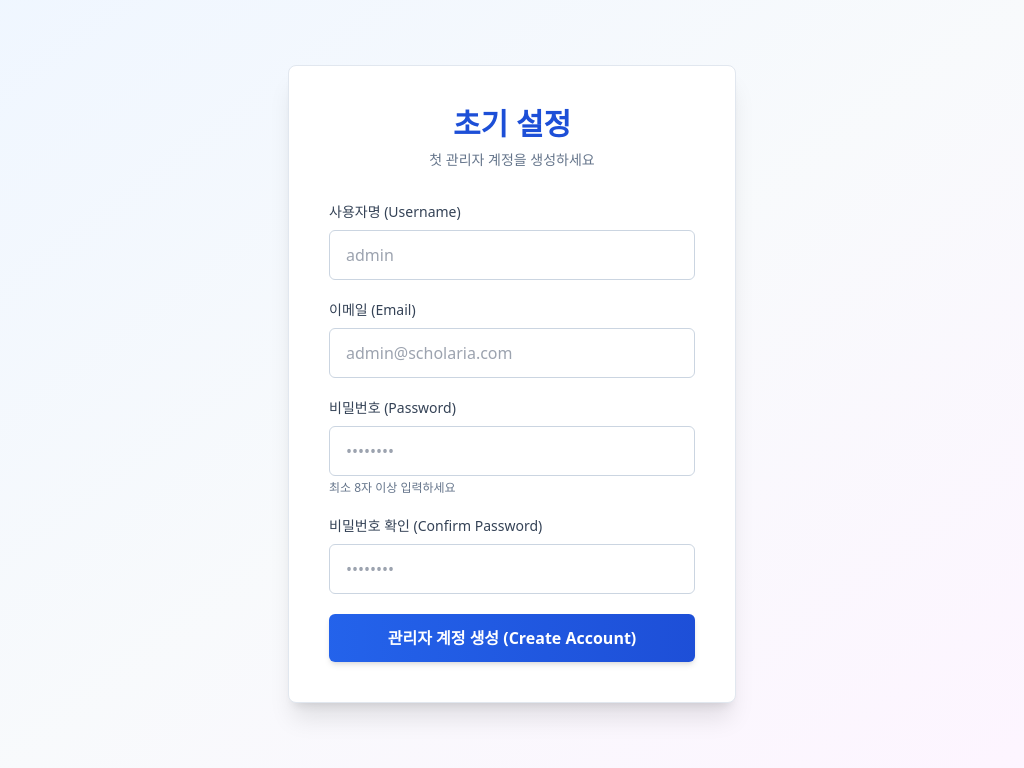
SetupPage › 비밀번호 길이 검증 - 8자 미만 시 에러
Type "testuser" into the field labelled "Username".
click(512, 255); type("testuser")  # box [329,230,695,280]
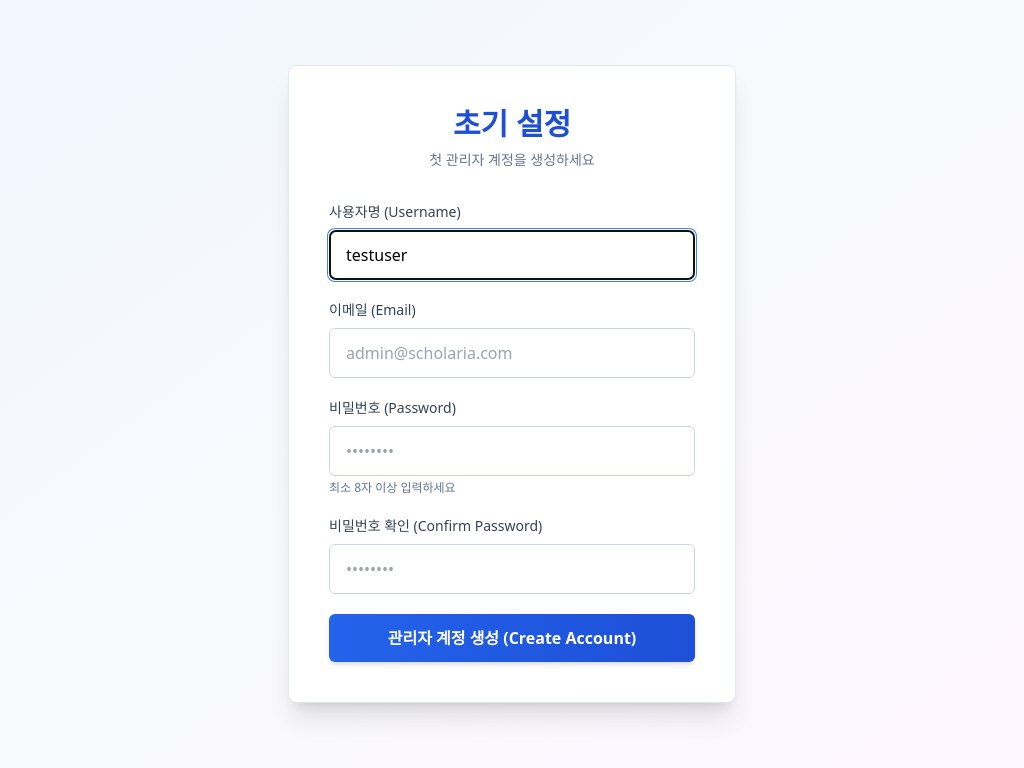
Type "test@test.com" into the field labelled "Email".
click(512, 353); type("test@test.com")  # box [329,328,695,378]
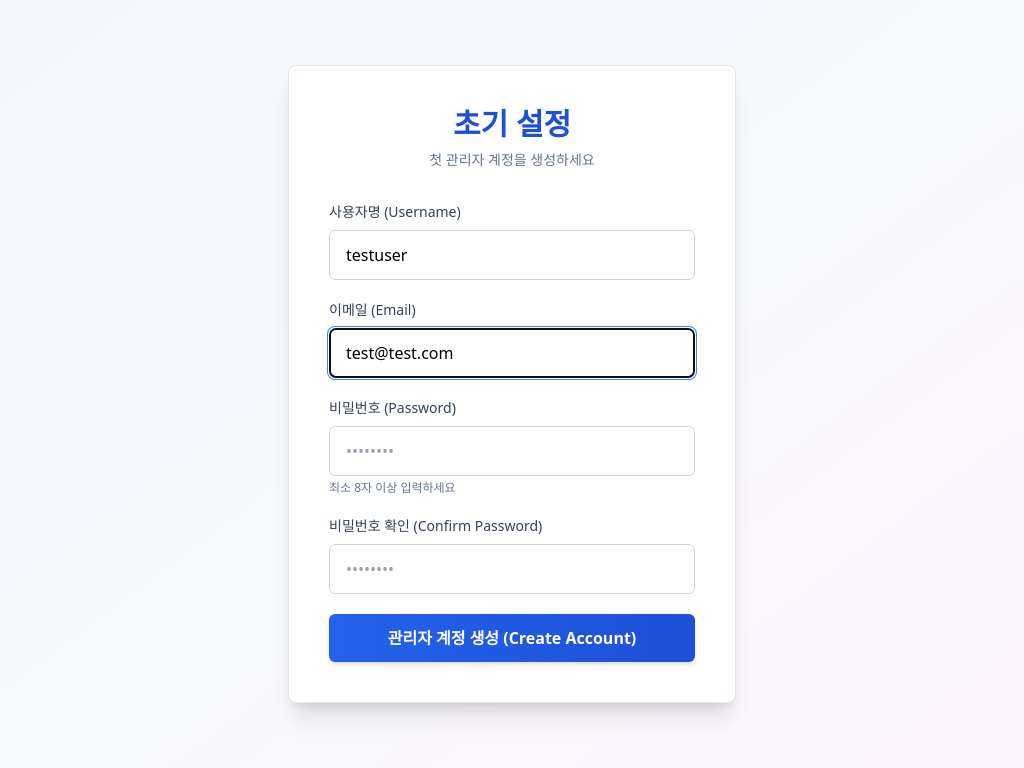
Type "short" into the password field labelled "Password".
click(512, 451); type("short")  # box [329,426,695,476]
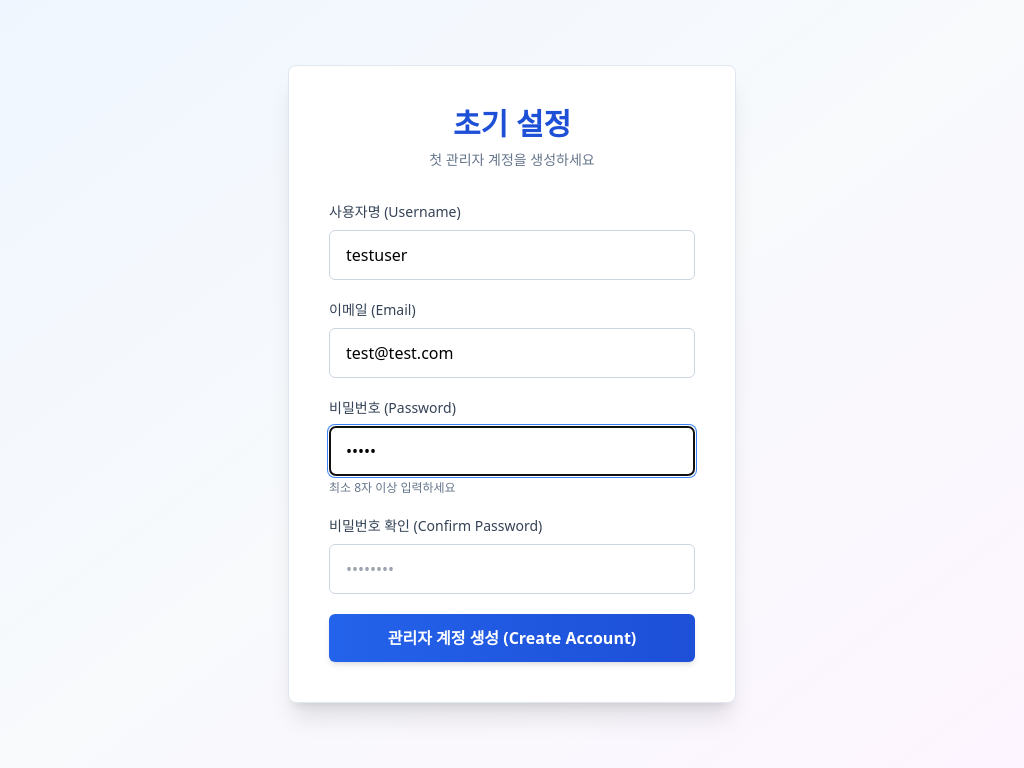
Type "short" into the password field labelled "Confirm Password".
click(512, 569); type("short")  # box [329,544,695,594]
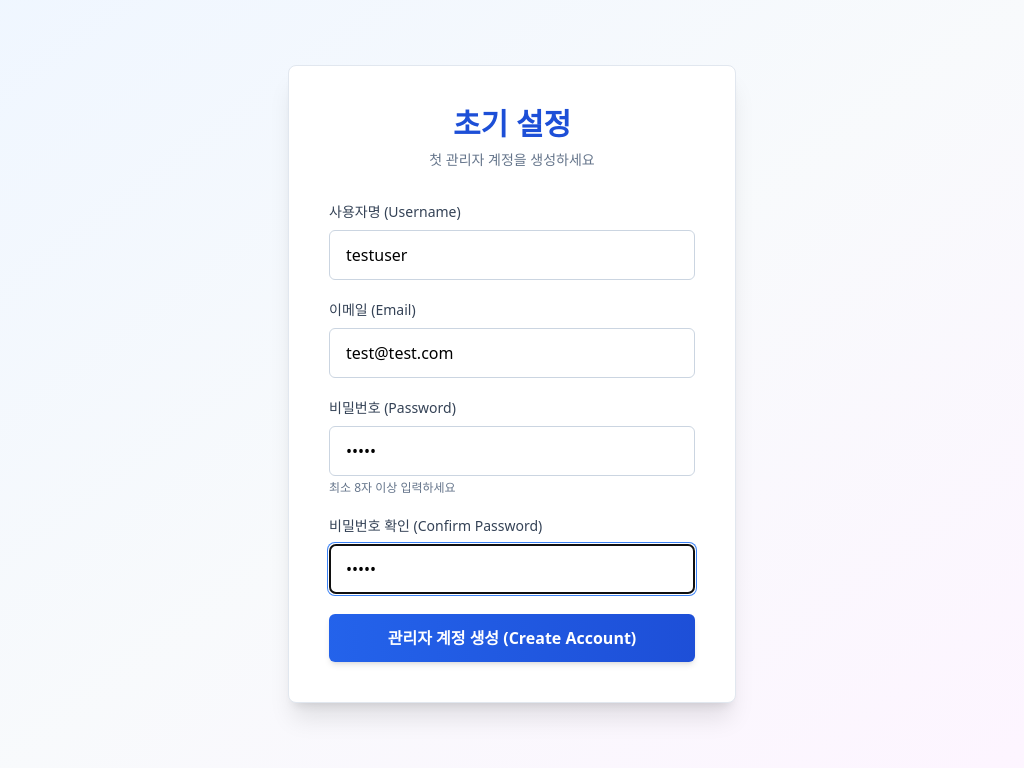
Click the button "관리자 계정 생성 (Create Account)".
click(512, 638)  # box [329,614,695,662]
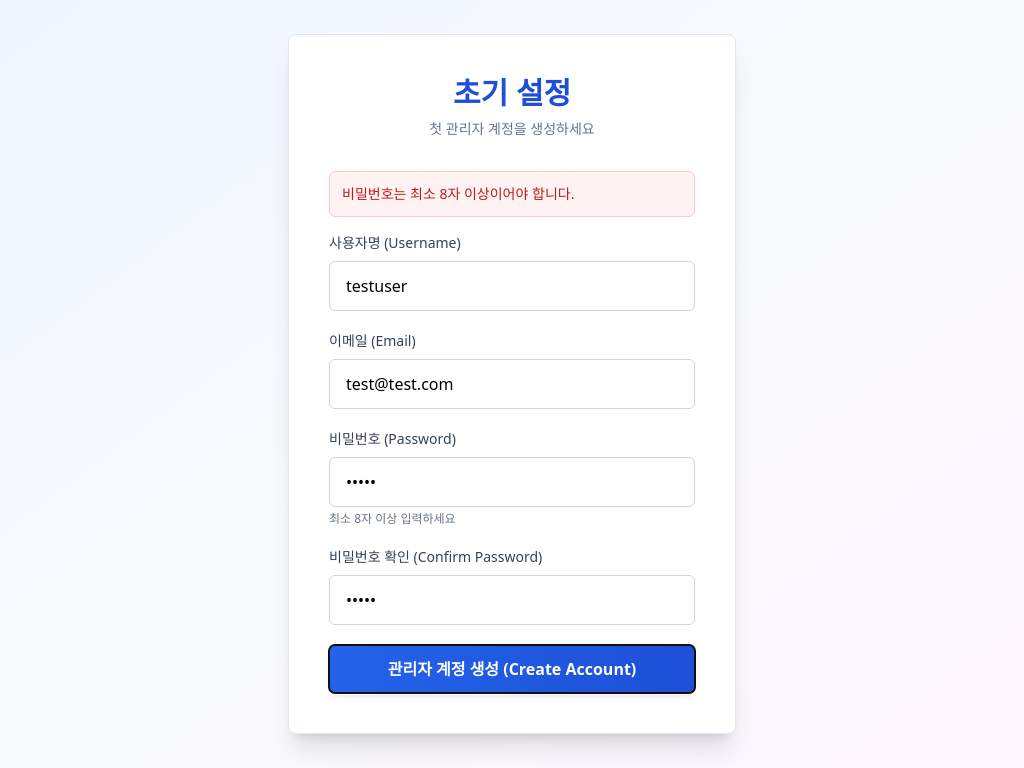
Now the text "비밀번호는 최소 8자 이상이어야 합니다." is shown, box [329,171,695,217]
